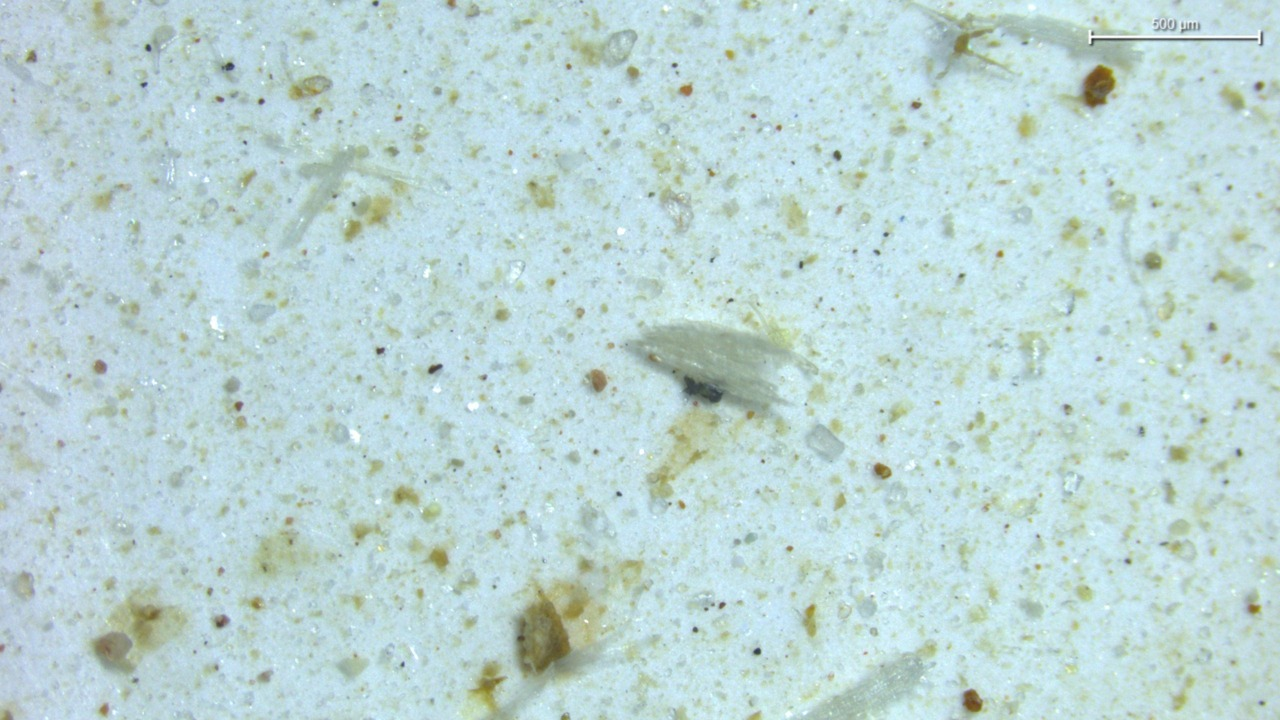microplastic_fragment: (626, 321, 818, 410), (604, 29, 637, 66), (810, 428, 842, 457)
